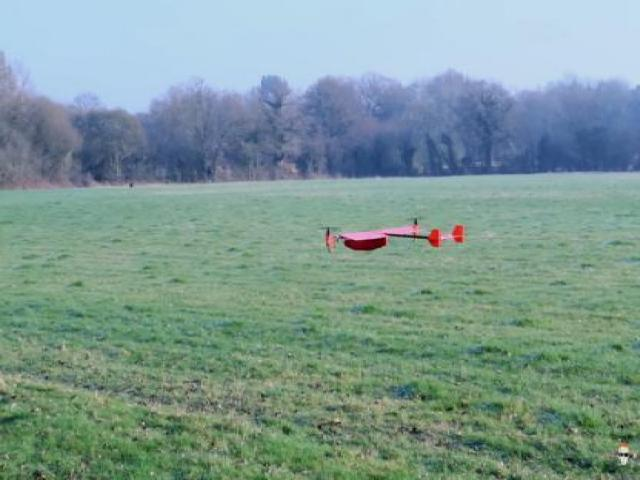uav: (338, 223, 467, 251)
